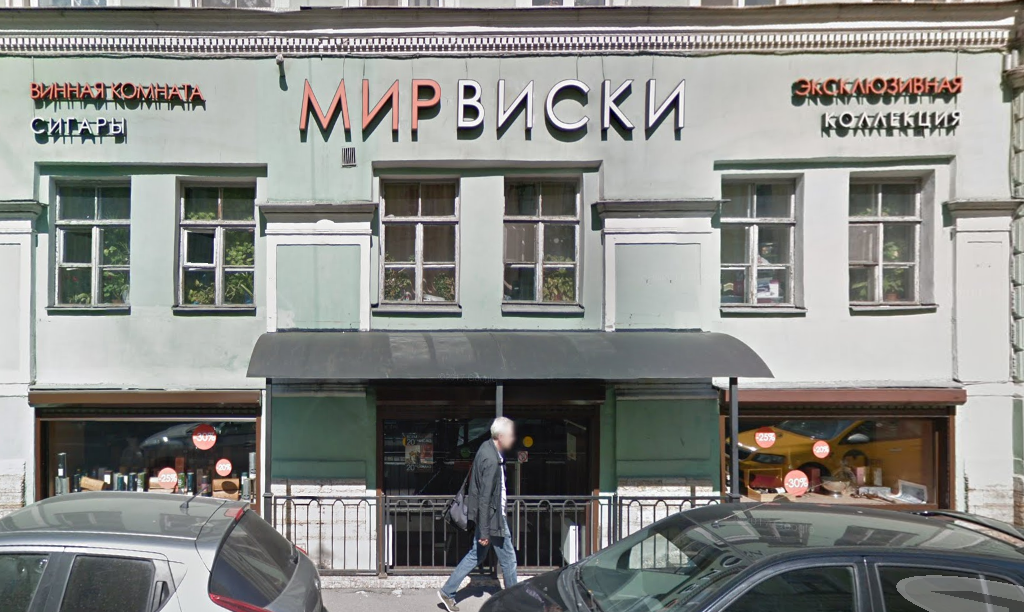signboard: (288, 70, 692, 155), (27, 67, 212, 147), (781, 66, 972, 137)
window: (724, 409, 953, 514), (31, 408, 261, 494), (504, 175, 579, 302), (721, 178, 796, 304), (177, 181, 253, 305), (53, 180, 127, 304), (382, 180, 457, 301), (851, 178, 919, 300)
